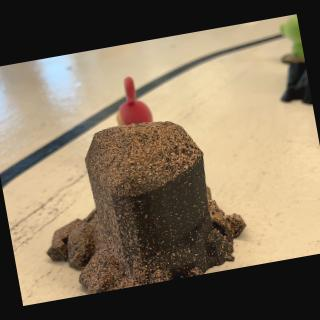teletubby: (117, 77, 153, 126), (280, 14, 304, 58)
